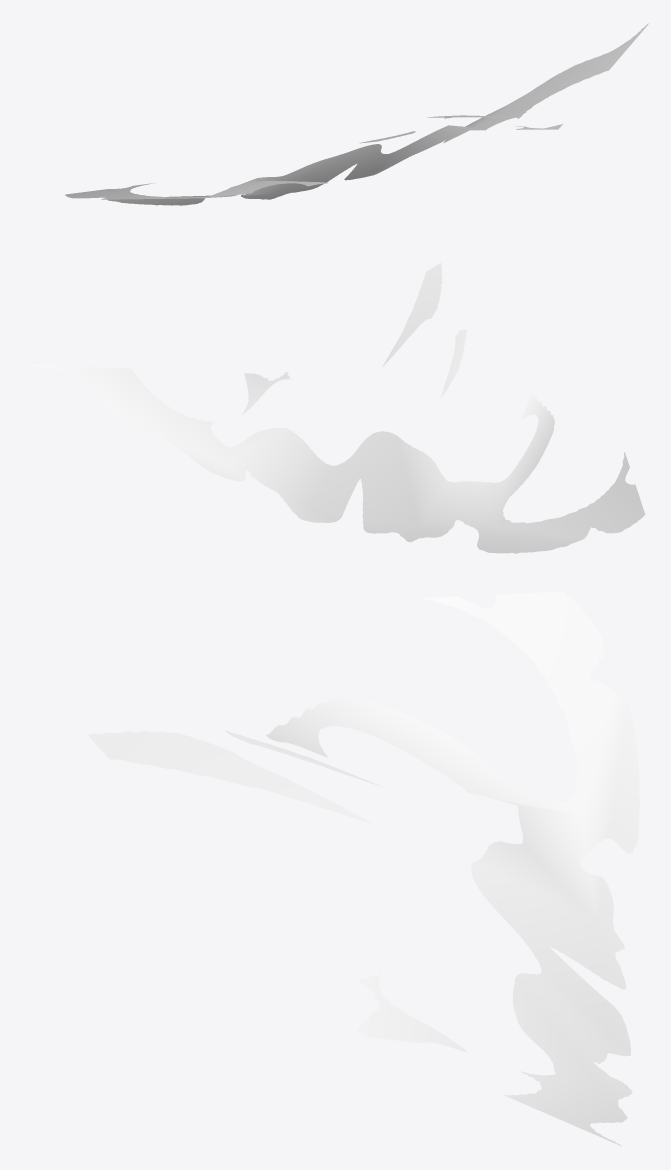
Rendered from flame_lick_01.glb.
3 views of the same model, one above another, from view 1: azimuth 30°, elevation 25°; view 2: azimuth 150°, elevation 25°; view 3: azimuth 270°, elevation 25° (orthographic). The views are drawn at different scales.
Visible parts, largest first — view 1: castle_fire.flame_lick_01-MeshNodes["flame_lick_01"]; view 2: castle_fire.flame_lick_01-MeshNodes["flame_lick_01"]; view 3: castle_fire.flame_lick_01-MeshNodes["flame_lick_01"].
Boxes of the visible parts, bbox=[...] form: castle_fire.flame_lick_01-MeshNodes["flame_lick_01"]: bbox=[65, 23, 649, 205]; castle_fire.flame_lick_01-MeshNodes["flame_lick_01"]: bbox=[32, 263, 645, 553]; castle_fire.flame_lick_01-MeshNodes["flame_lick_01"]: bbox=[88, 591, 640, 1146].
Bounding box in the file's own units: 3.25 × 0.8879 × 1.35.
1 material, 1 textured.
